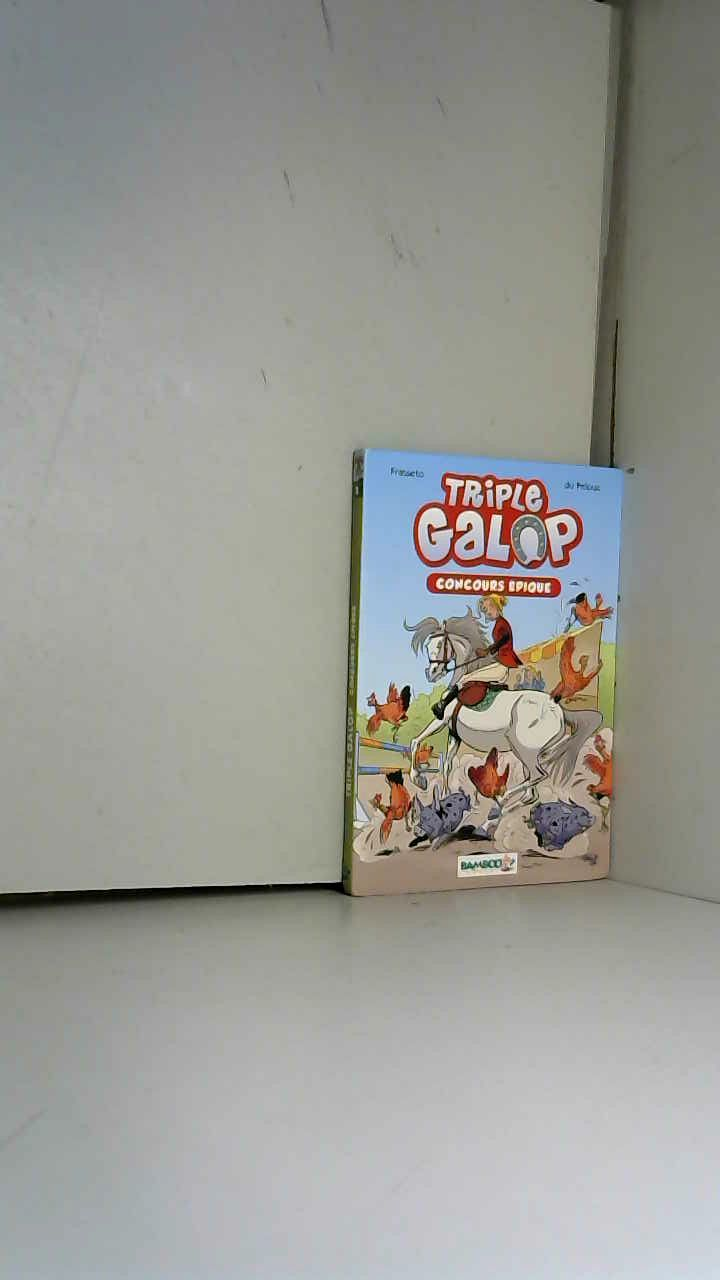book: (330, 430, 633, 912)
